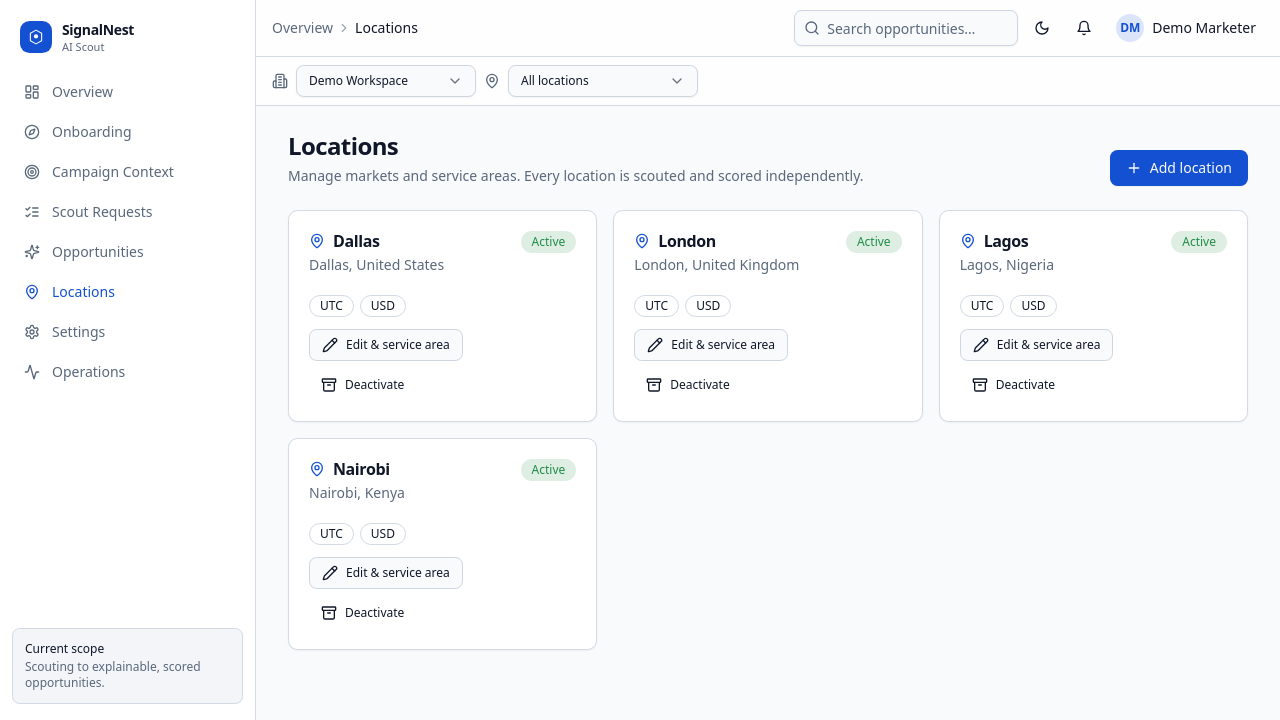
Test: locations: deactivate and reactivate (P6-UI-023) › shows the server refusal and leaves the location active
The width and height of the screenshot is (1280, 720).
Check: the heading "Dallas" is shown, box [309, 230, 380, 252]
Click the button "Deactivate" below "Dallas, United States" at {"x": 363, "y": 385}, box [309, 369, 416, 401]
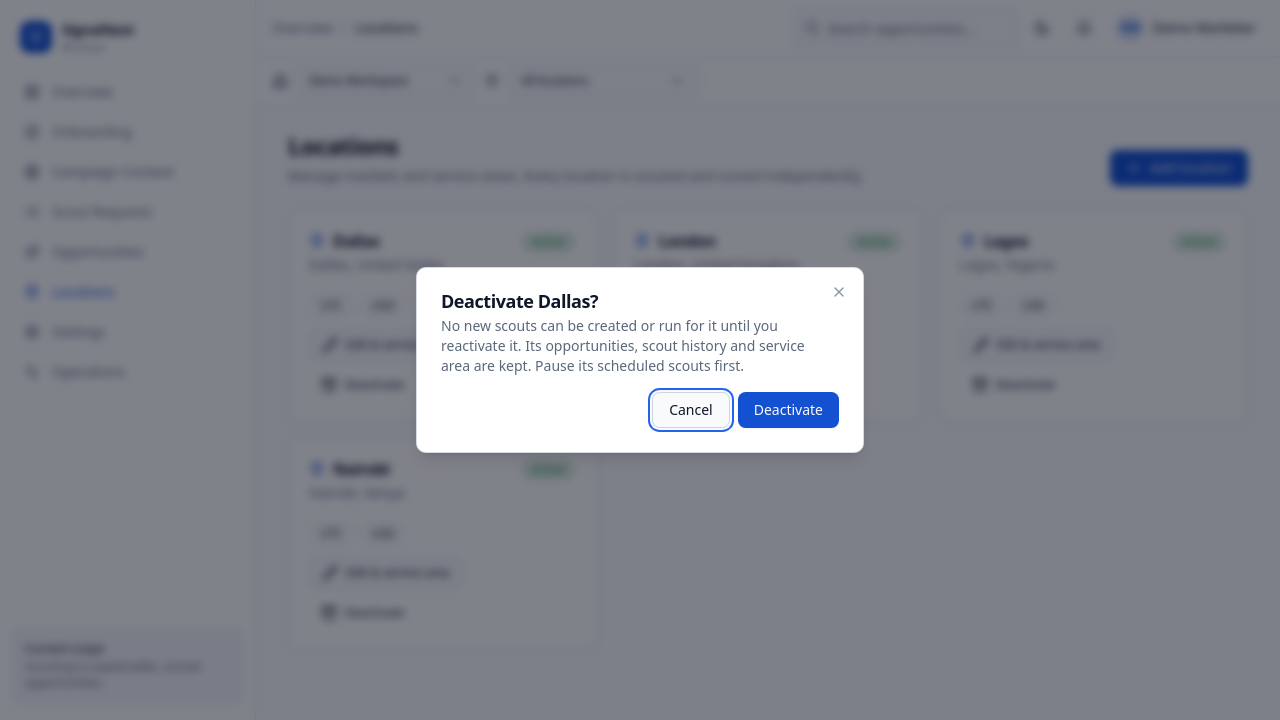
Click the button "Deactivate" at {"x": 788, "y": 410}, box [738, 392, 839, 428]
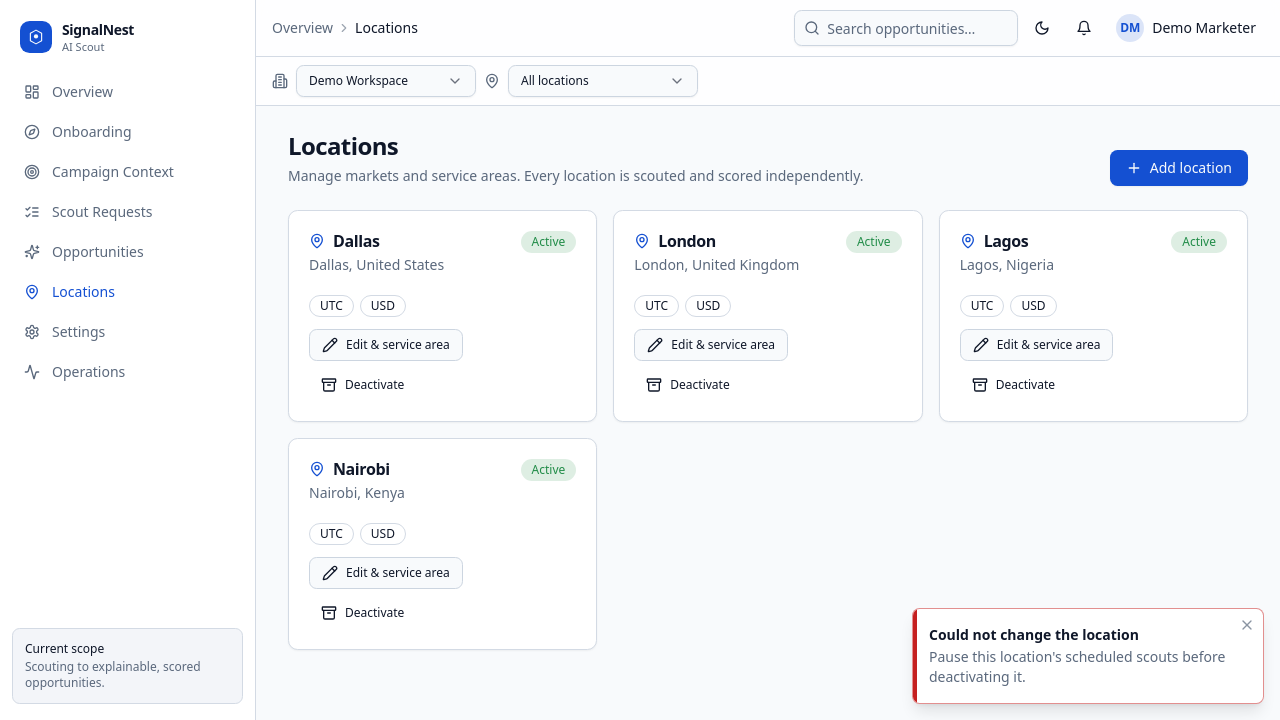
Check: the text "Active" is shown 4 times, box [521, 231, 576, 253]; [846, 231, 902, 253]; [1171, 231, 1227, 253]; [521, 459, 576, 481]
Check: the text "Pause this location's scheduled scouts before deactivating it" is shown, box [929, 647, 1225, 686]
